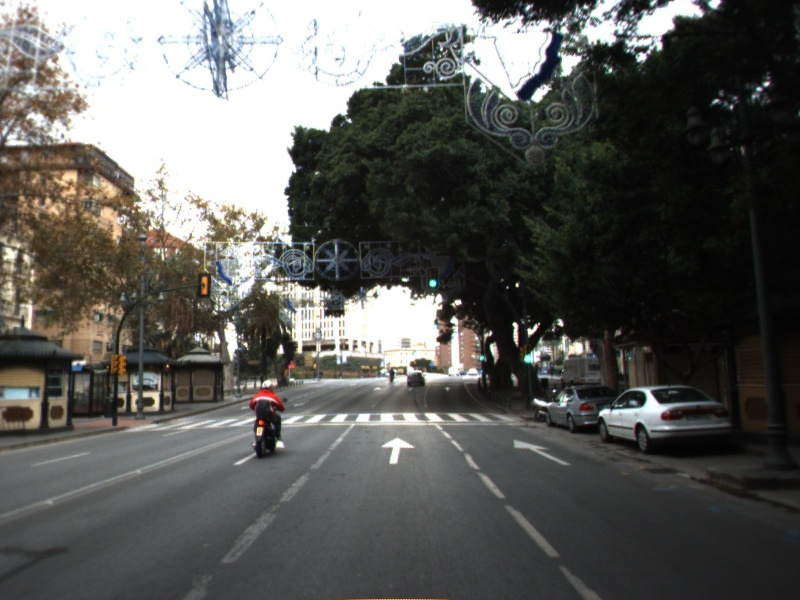STRAIGHT: (511, 437, 575, 468), (378, 435, 418, 467)
